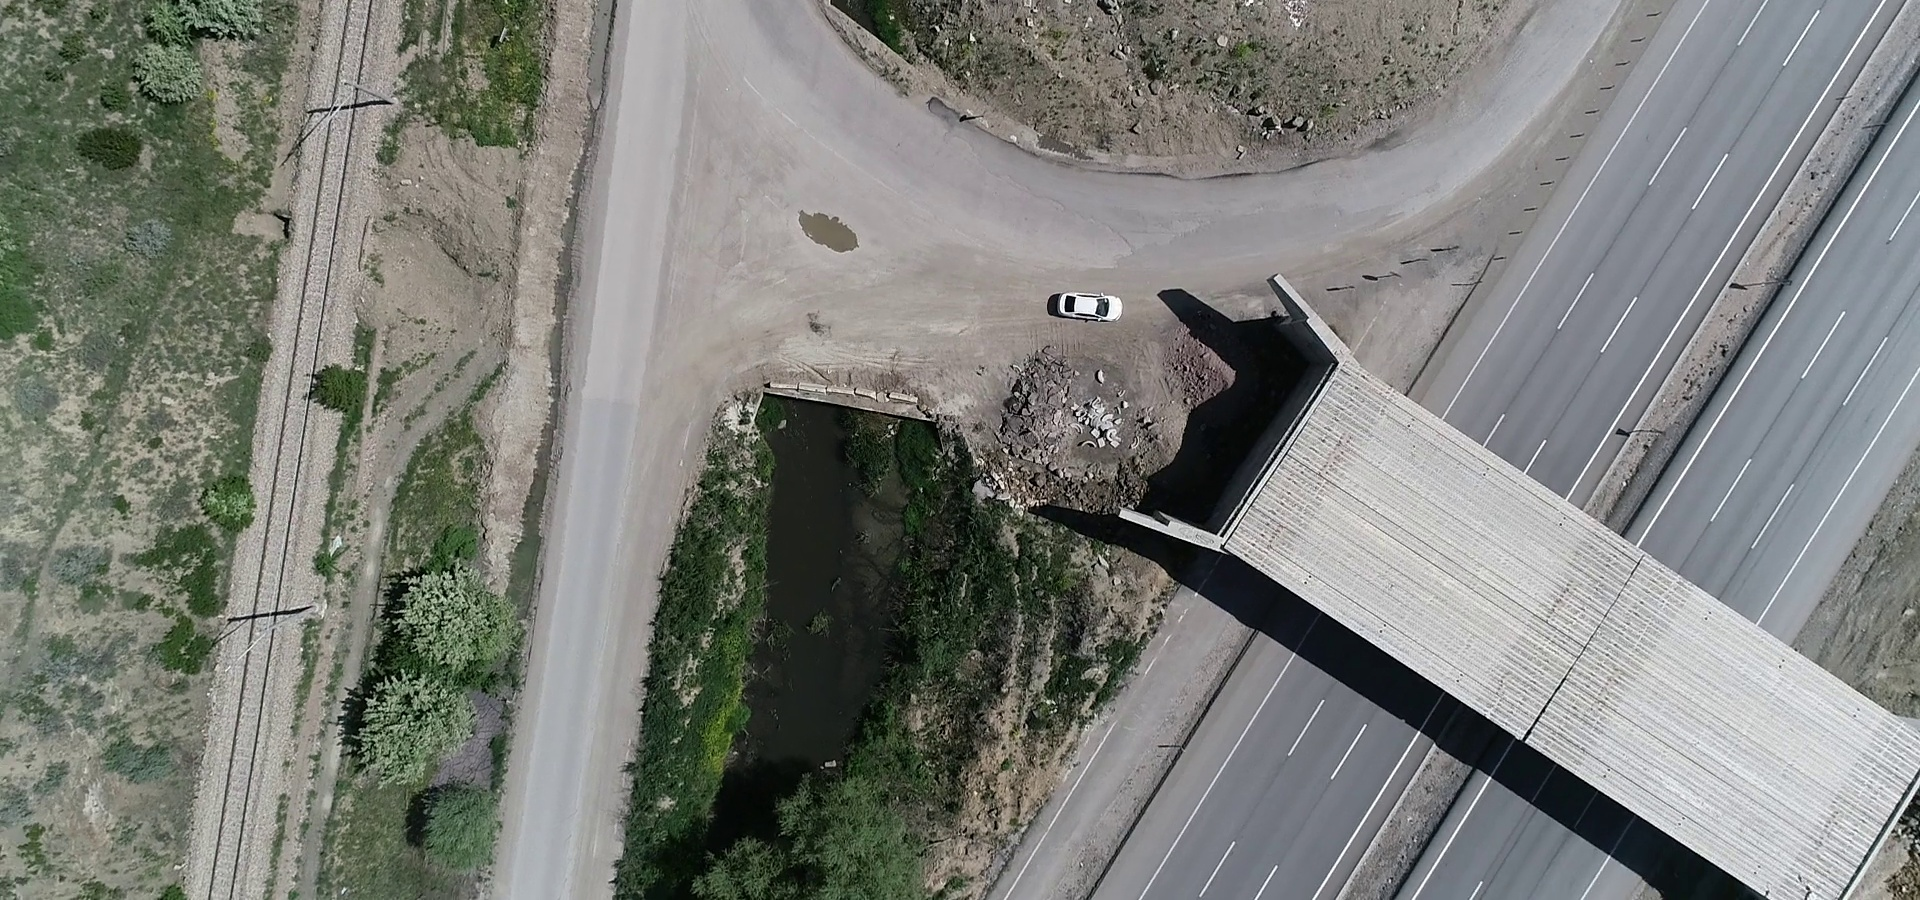araba: (1048, 288, 1120, 326)
